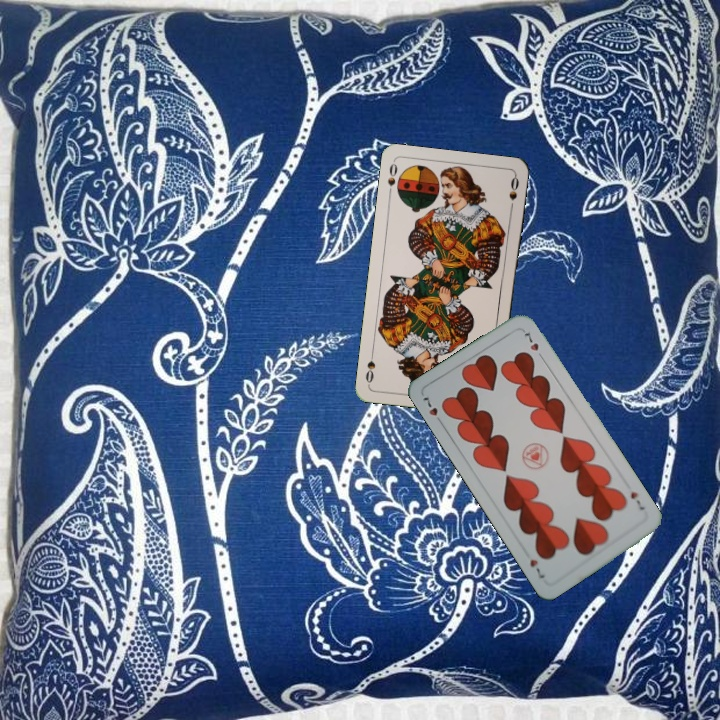H7: (419, 393, 446, 428), (626, 488, 647, 513)
SO: (383, 159, 400, 199)
